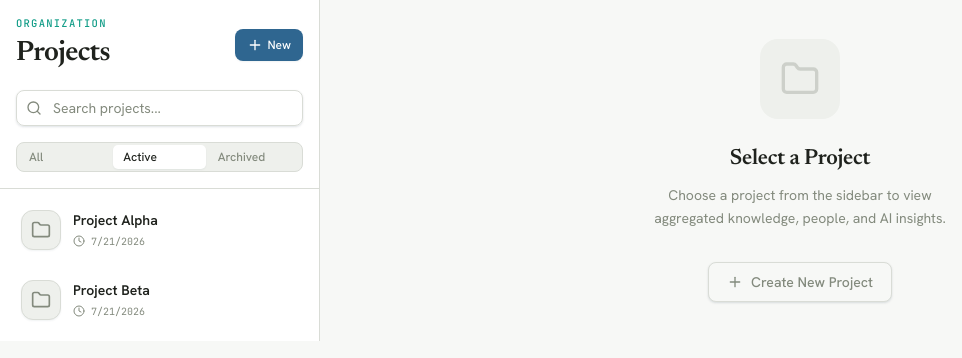
Test: Projects Page › should show loading state when selecting a project
This screenshot has width=962, height=358.
// Click on the project to select it
Click the text "Project Alpha" at [115, 220], box [73, 211, 158, 229]
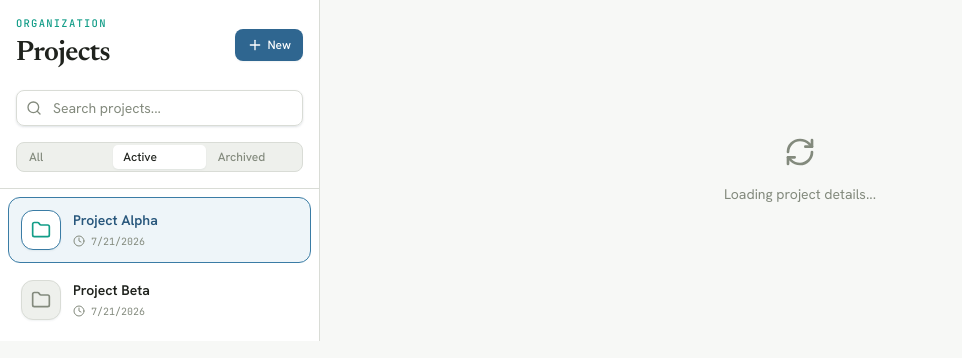
Now the text "Loading project details..." is shown, box [724, 184, 876, 204]
